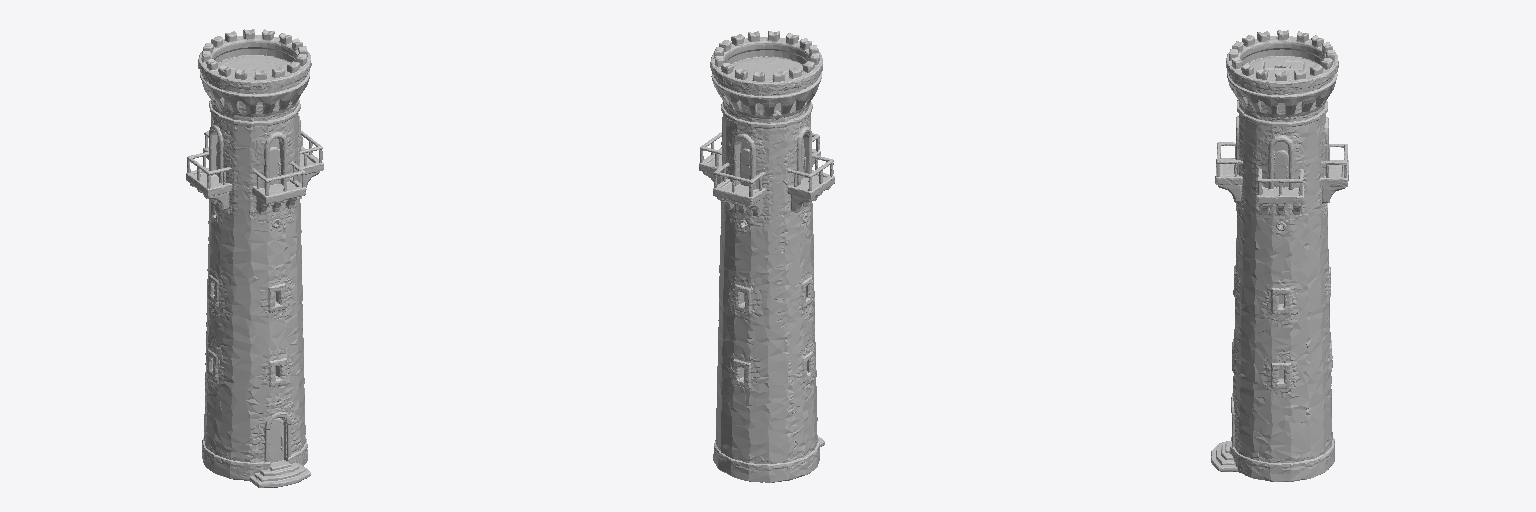
The model's file is Medieval tower_mid.obj.
3 views of the same model, side by side, from view 1: azimuth 30°, elevation 25°; view 2: azimuth 150°, elevation 25°; view 3: azimuth 270°, elevation 25° (orthographic).
Parts seen in each view (by area): view 1: Medieval_tower_mid; view 2: Medieval_tower_mid; view 3: Medieval_tower_mid.
Boxes of the visible parts, x1,y1,x2,y2 form: Medieval_tower_mid: [186, 29, 323, 487]; Medieval_tower_mid: [699, 31, 834, 482]; Medieval_tower_mid: [1211, 30, 1348, 481].
Bounding box in the file's own units: 7.17 × 24.15 × 7.41.